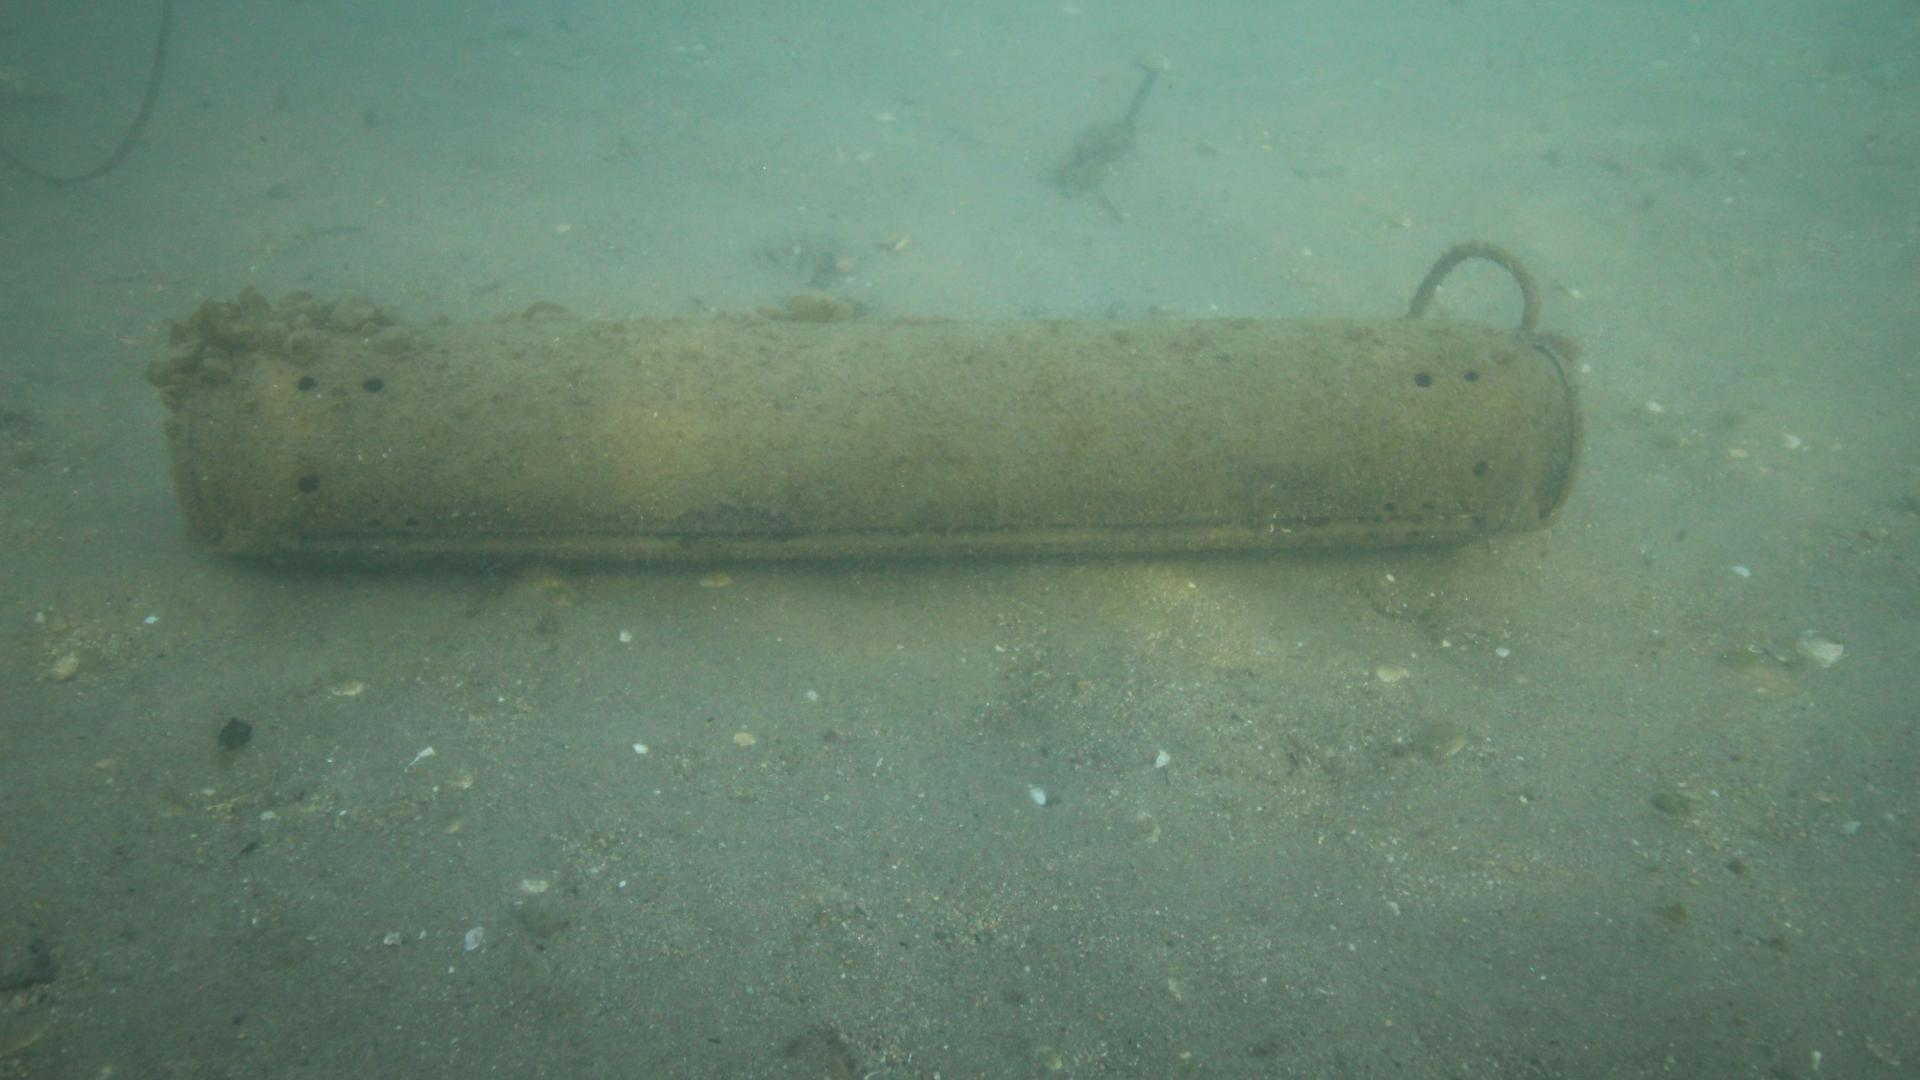eel fish trap: (141, 240, 1580, 579)
rope: (1404, 245, 1542, 328)
